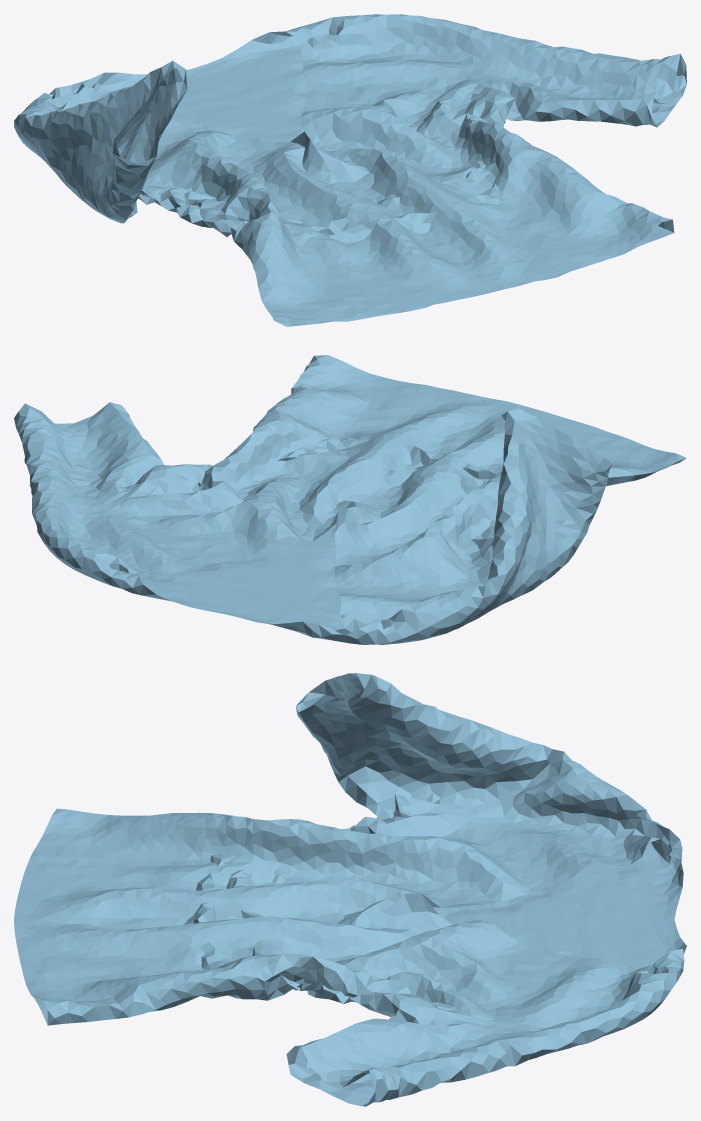
File: frame_11.glb
The picture shows the model from 3 angles, top to bottom: view 1: azimuth 30°, elevation 25°; view 2: azimuth 150°, elevation 25°; view 3: azimuth 270°, elevation 25°; orthographic projection. The views are drawn at different scales.
Visible parts, largest first — view 1: frame_11.obj; view 2: frame_11.obj; view 3: frame_11.obj.
Boxes of the visible parts, box(x1,y1,x2,y2) form: frame_11.obj: box(14, 14, 686, 326); frame_11.obj: box(14, 355, 686, 644); frame_11.obj: box(14, 673, 686, 1106).
Bounding box in the file's own units: 1.65 × 0.41 × 1.48.
